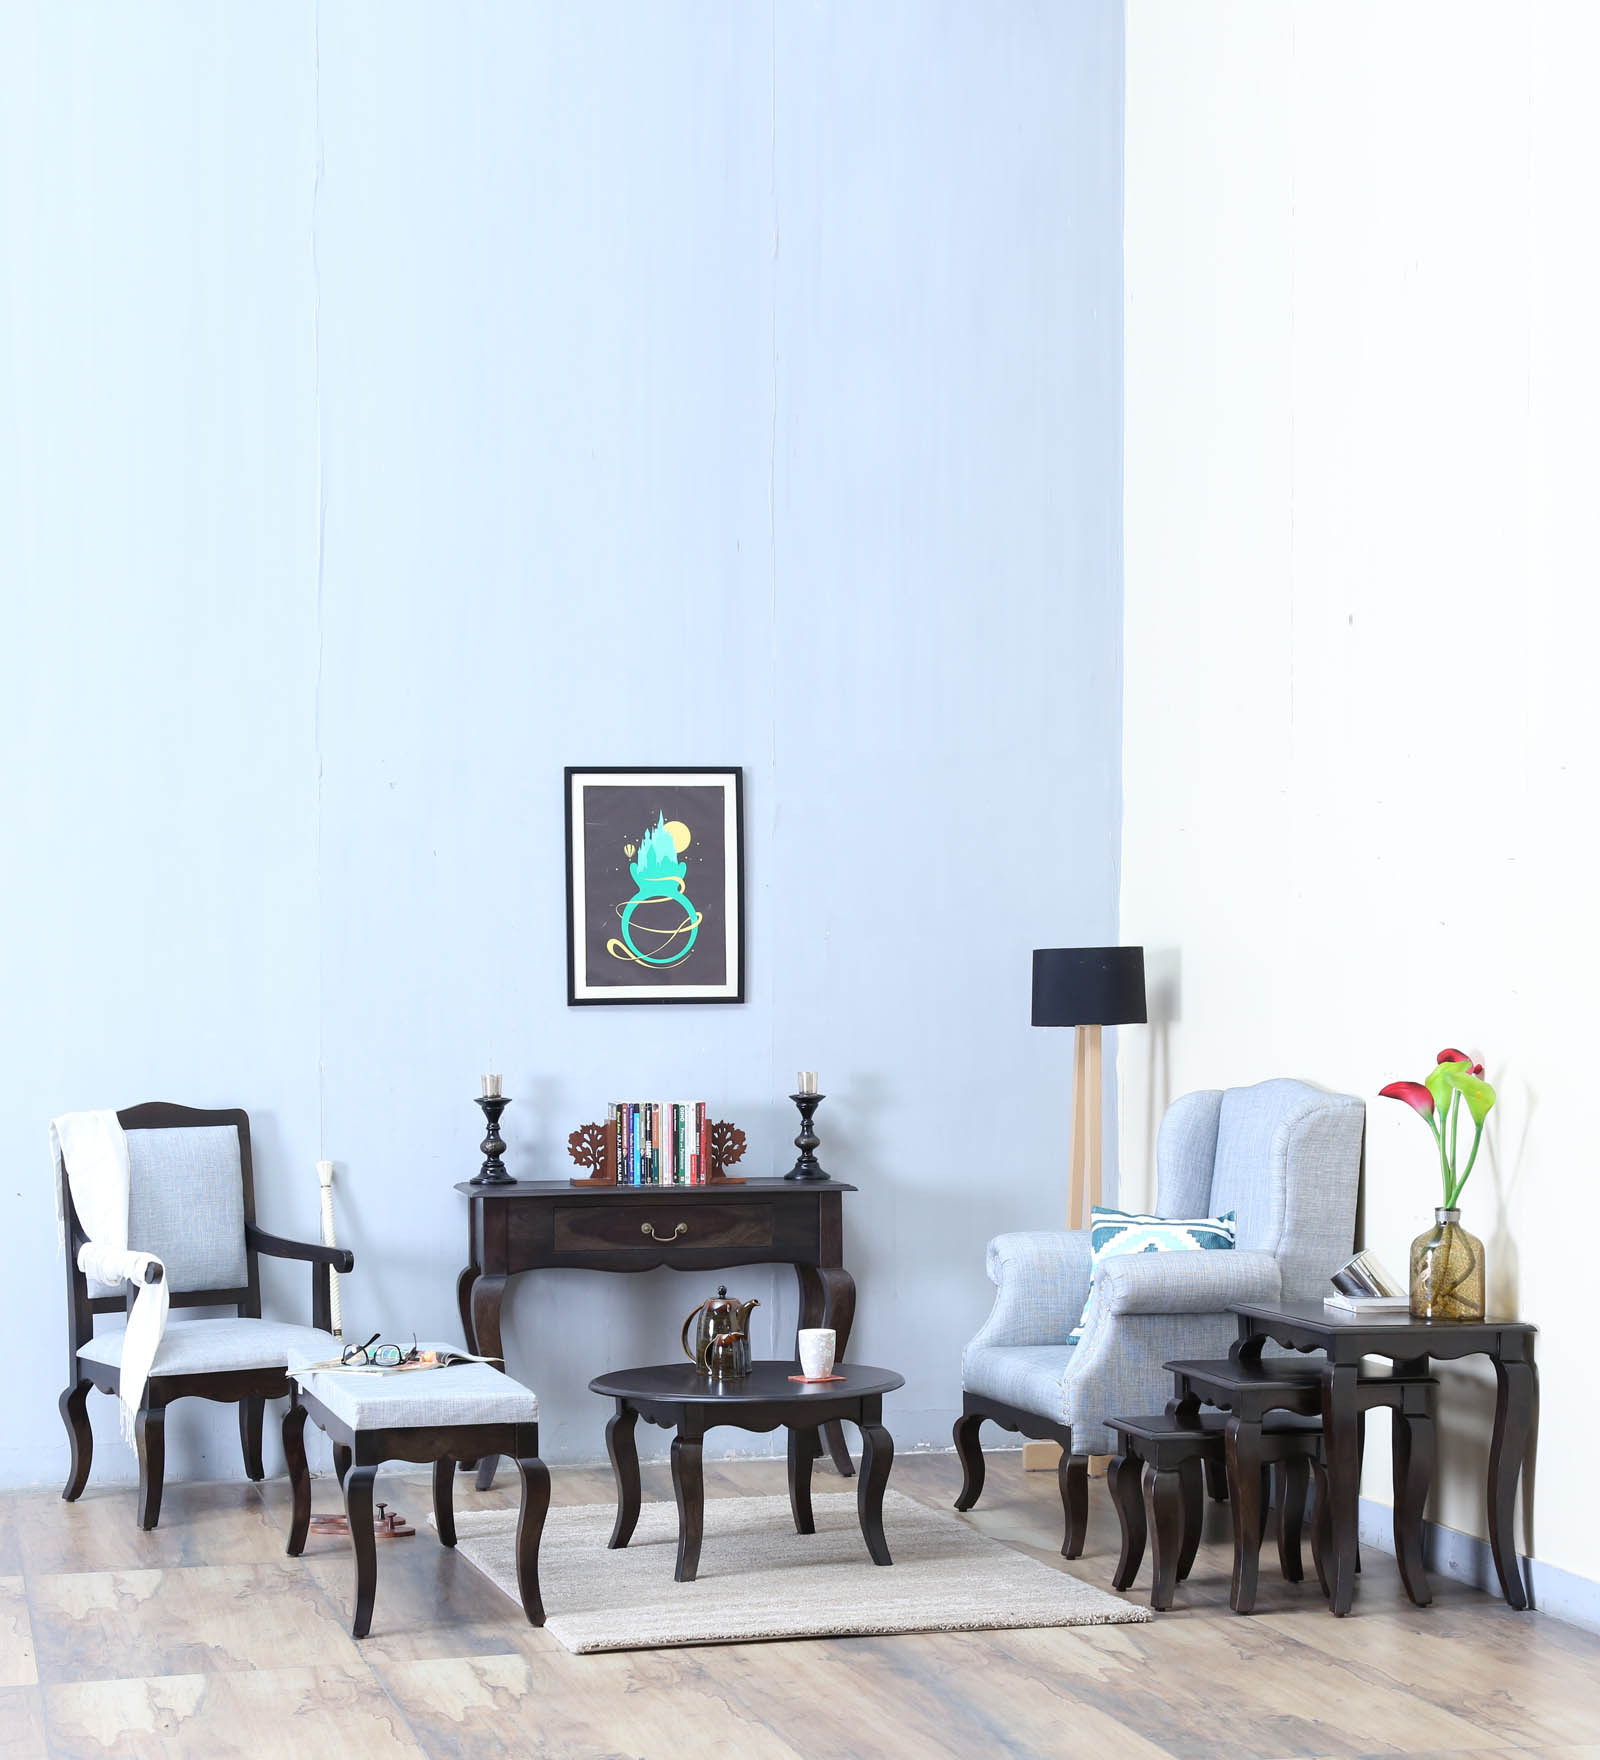Anne Arm Chair in Warm Chestnut Finish by Amberville: (49, 1079, 349, 1542)
